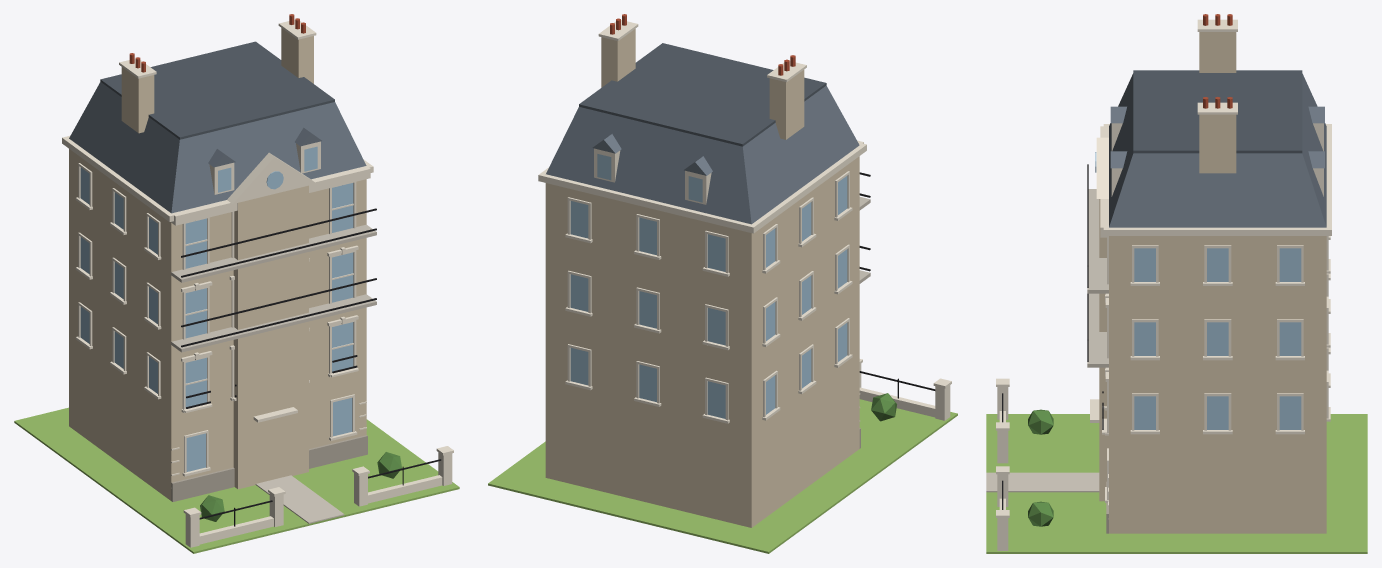
The model's file is Konut_villa_kosk_Hafif.fbx.
3 views of the same model, side by side, from view 1: azimuth 30°, elevation 25°; view 2: azimuth 150°, elevation 25°; view 3: azimuth 270°, elevation 25° (orthographic). The views are drawn at different scales.
Parts seen in each view (by area): view 1: Konut_villa_kosk_Hafif; view 2: Konut_villa_kosk_Hafif; view 3: Konut_villa_kosk_Hafif.
Part boxes in pixels (x1,y1,x2,y2): Konut_villa_kosk_Hafif: (14,14,459,553); Konut_villa_kosk_Hafif: (488,14,957,553); Konut_villa_kosk_Hafif: (986,14,1367,553).
Bounding box in the file's own units: 12 × 17.36 × 14.
